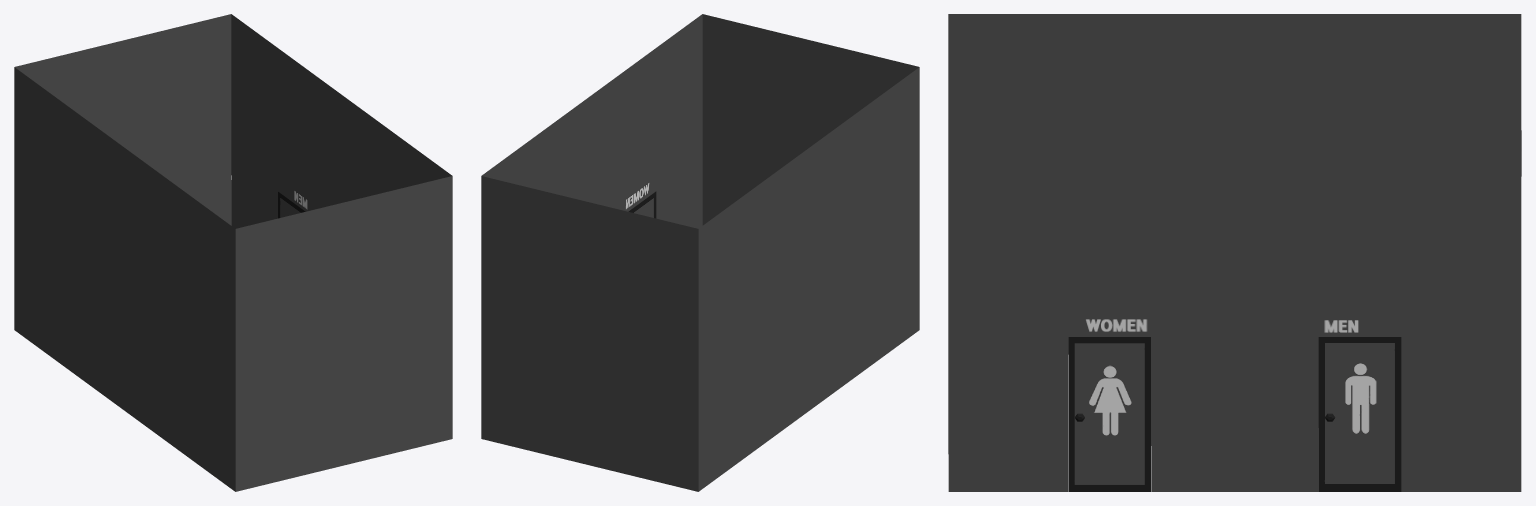
Rendered from Toilet.fbx.
3 views of the same model, side by side, from view 1: azimuth 30°, elevation 25°; view 2: azimuth 150°, elevation 25°; view 3: azimuth 270°, elevation 25° (orthographic). The views are drawn at different scales.
Visible parts, largest first — view 1: Toilet; view 2: Toilet; view 3: Toilet, Toilet_M, Toilet_Y.
Part boxes in pixels (bbox=[...]): Toilet: bbox=[14, 14, 452, 491]; Toilet: bbox=[481, 14, 919, 491]; Toilet: bbox=[948, 14, 1521, 491]; Toilet_M: bbox=[1318, 337, 1401, 491]; Toilet_Y: bbox=[1068, 337, 1150, 491].
Bounding box in the file's own units: 496 × 569 × 868.
